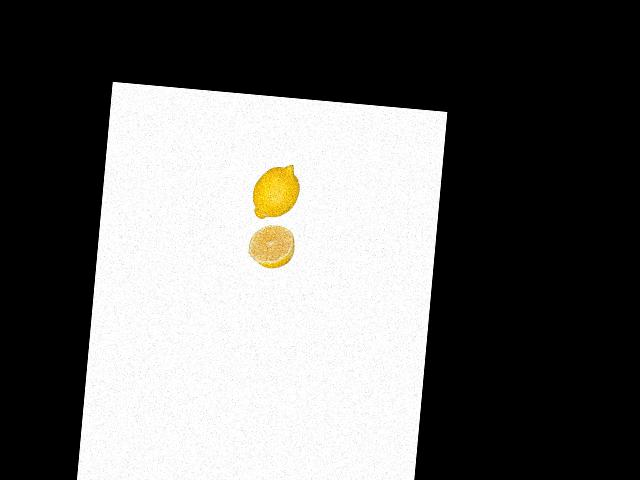lemon: (250, 163, 301, 222)
